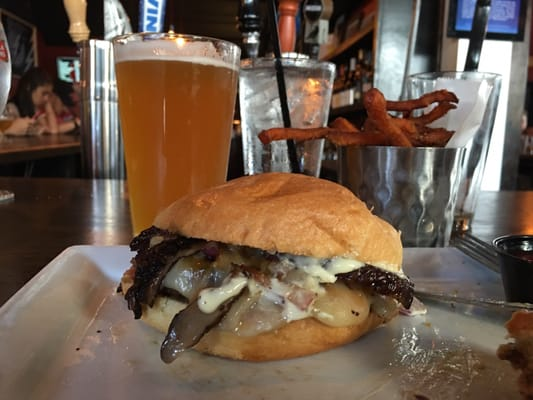pizza: (111, 31, 242, 237), (493, 234, 533, 305)
soup: (116, 172, 420, 364)
